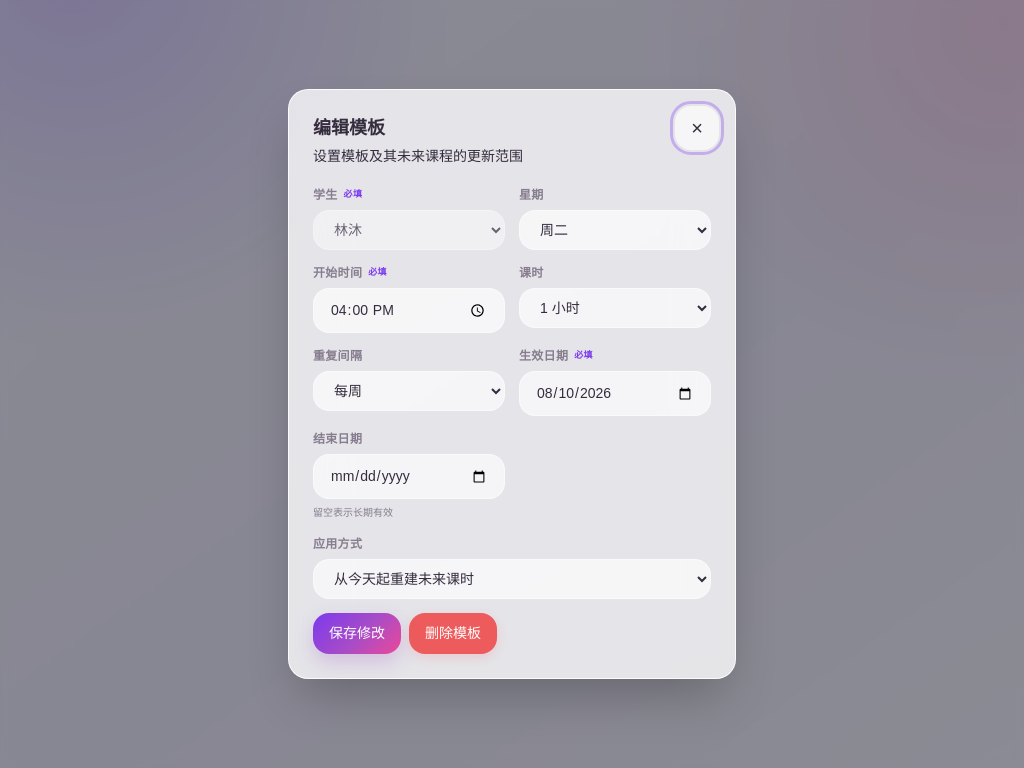
it: TemplateFormModal › locks duplicate deletion while pending
Click the button "删除模板" at {"x": 453, "y": 634}, box x1=409 y1=613 x2=497 y2=654
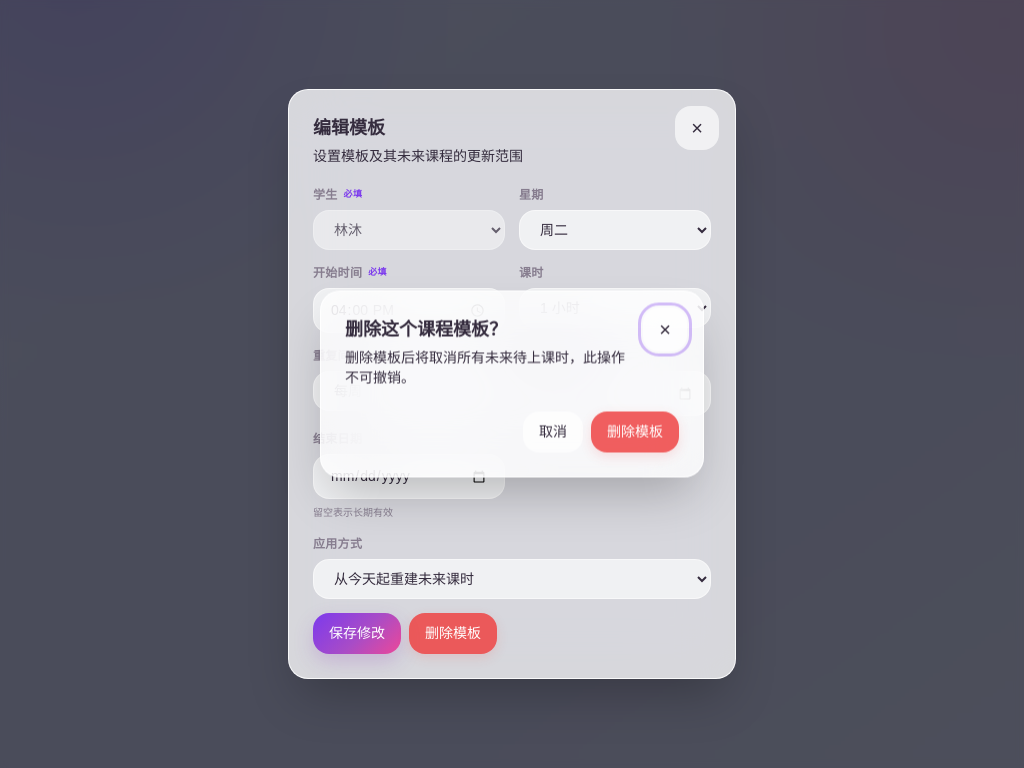
Click the button "删除模板" at {"x": 635, "y": 432}, box x1=591 y1=412 x2=679 y2=452
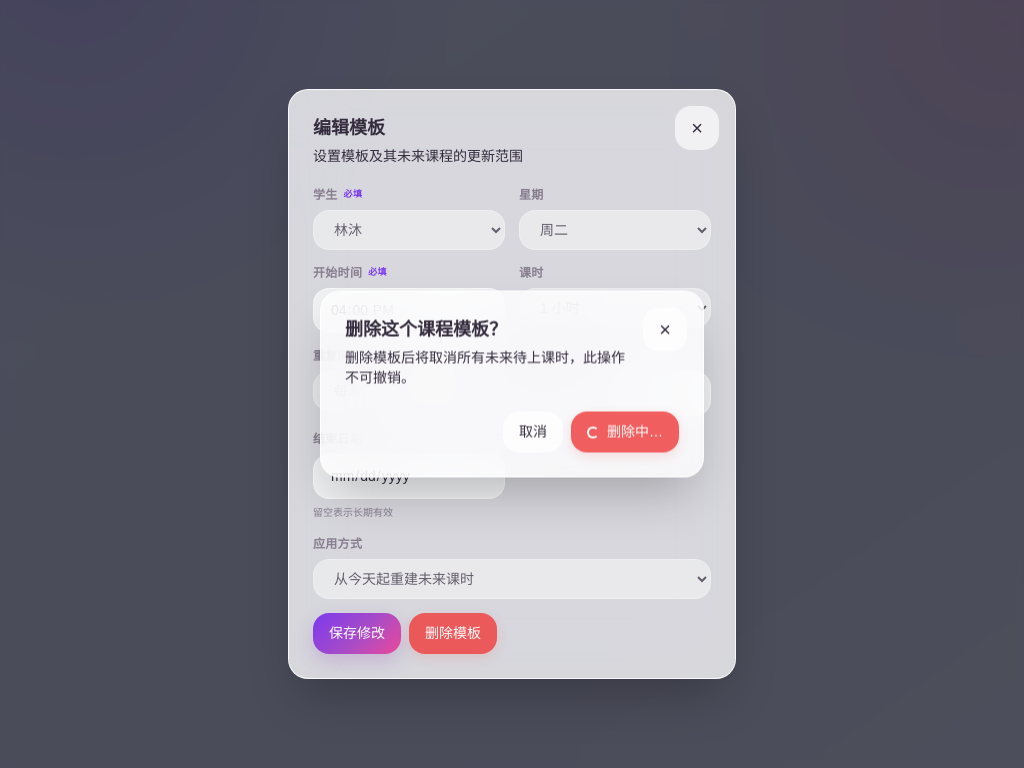
Check: the button "删除中…" is disabled, box x1=571 y1=412 x2=679 y2=452
